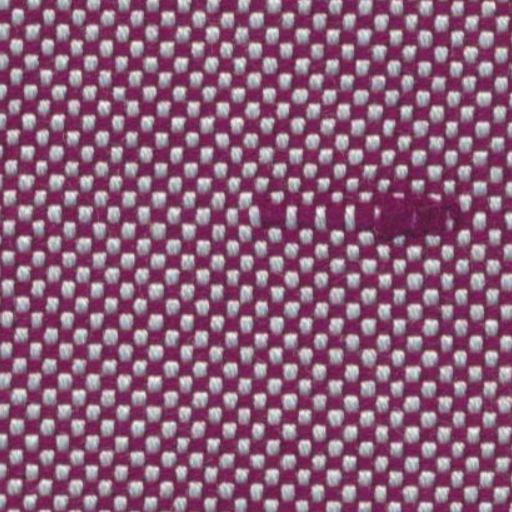DaiSha: (213, 186, 470, 246)
